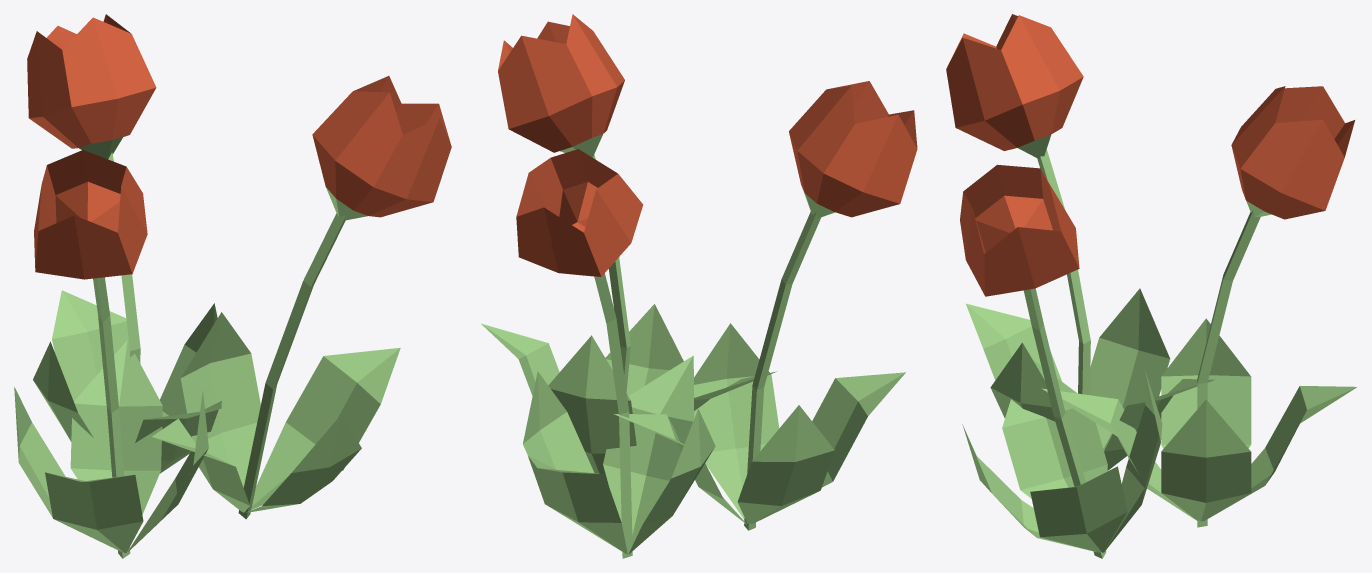
The model's file is flower_01.fbx.
3 views of the same model, side by side, from view 1: azimuth 30°, elevation 25°; view 2: azimuth 150°, elevation 25°; view 3: azimuth 270°, elevation 25° (orthographic). The views are drawn at different scales.
Parts seen in each view (by area): view 1: flowers_01; view 2: flowers_01; view 3: flowers_01.
Boxes of the visible parts, box(x1,y1,x2,y2) form: flowers_01: box(14, 14, 451, 558); flowers_01: box(481, 14, 917, 558); flowers_01: box(946, 14, 1356, 558).
Bounding box in the file's own units: 70.85 × 73.6 × 61.9.
